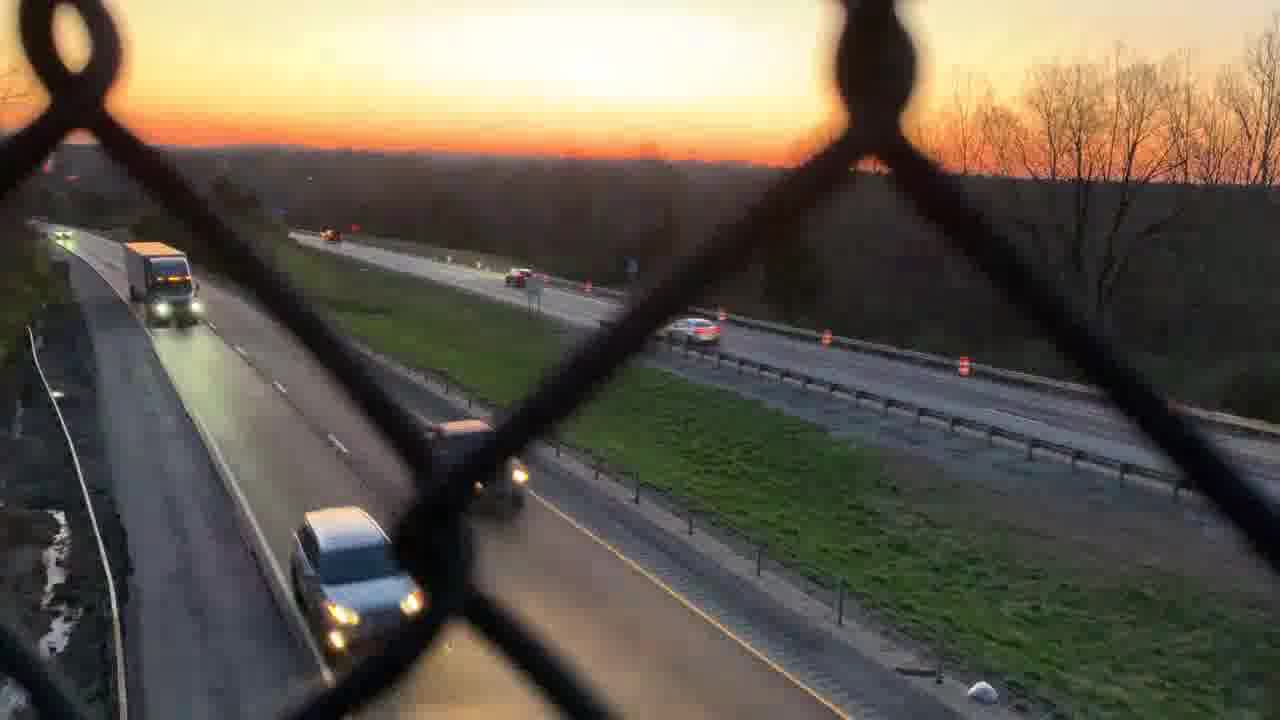heavyTruck: (118, 233, 204, 334)
largeCar: (289, 504, 430, 647)
smallCar: (655, 313, 720, 341)
